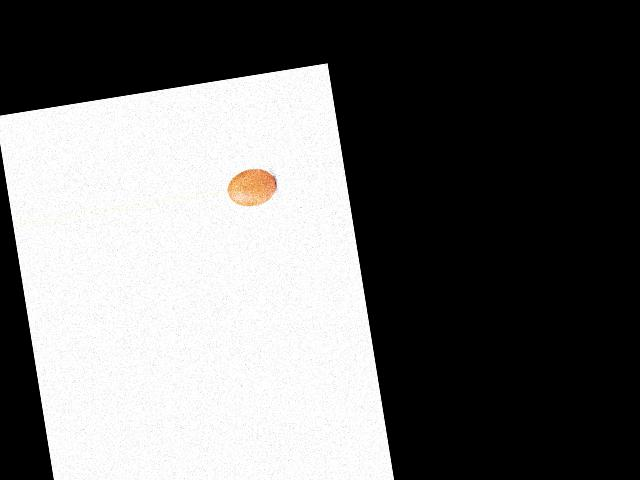egg: (225, 165, 278, 208)
